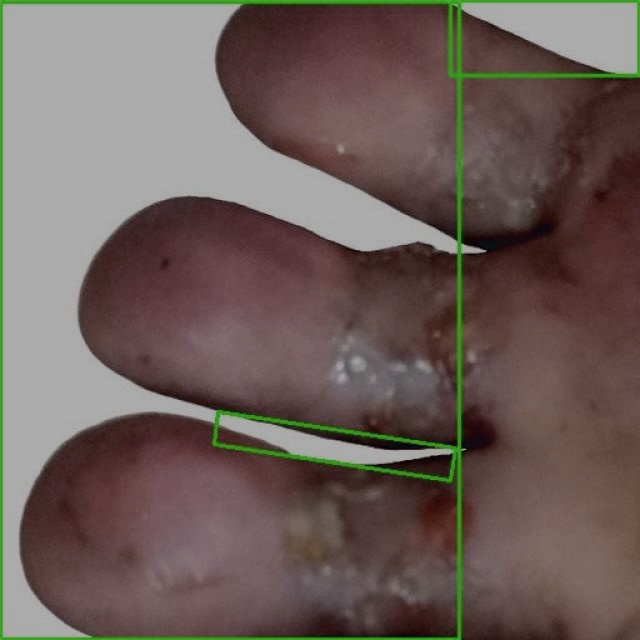Scabies: (0, 0, 459, 639), (213, 411, 455, 479), (450, 0, 639, 75)
